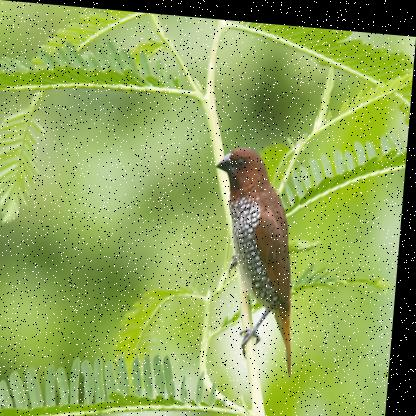Burung: (205, 140, 311, 370)
